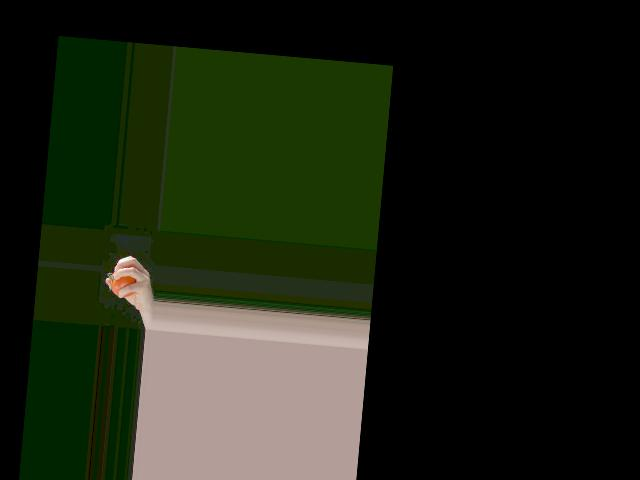tomato: (111, 271, 138, 298)
